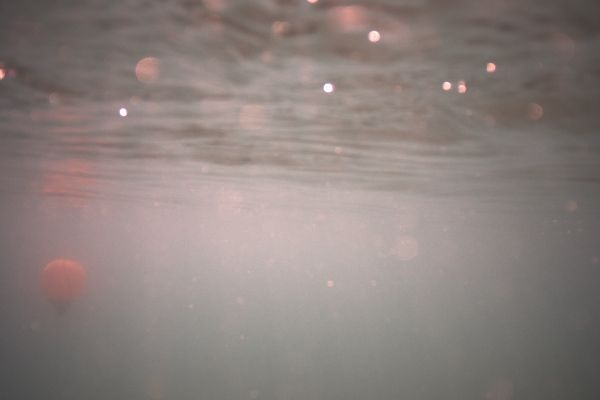buoy: (41, 260, 87, 316)
